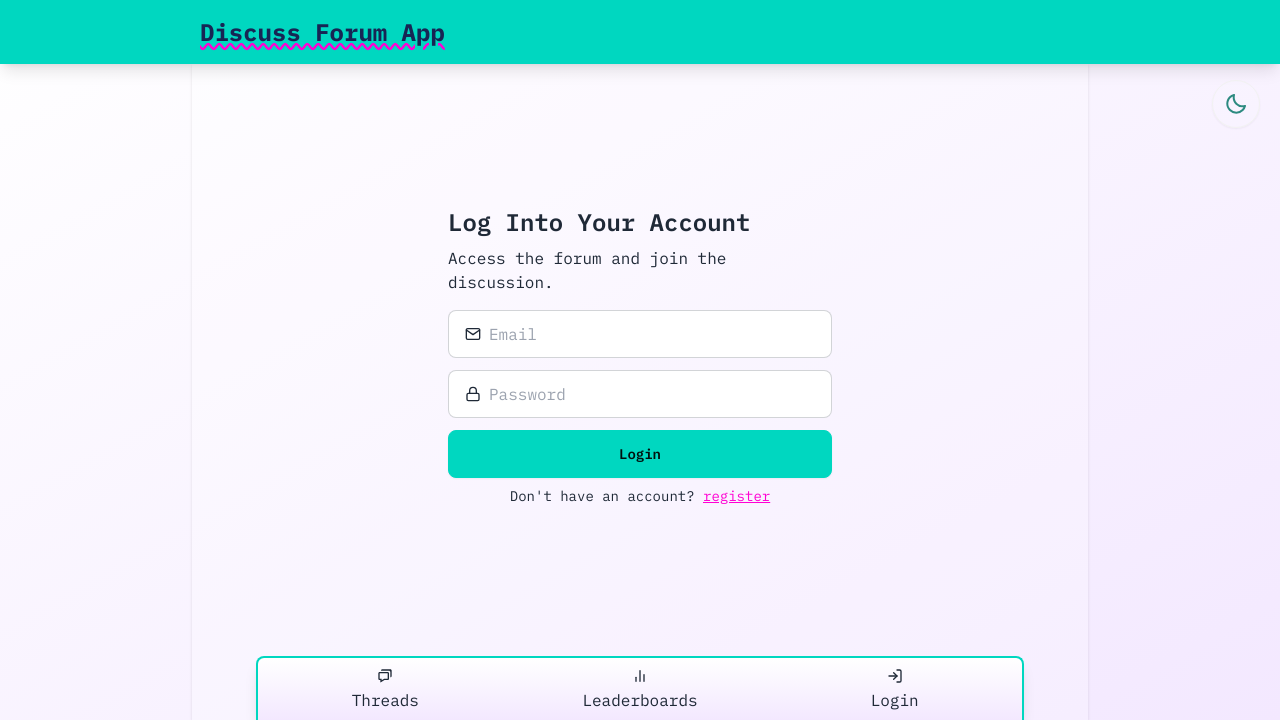
Test: login spec › should show error message when login failed
This screenshot has width=1280, height=720.
Type "testy@mail.com" into the field with placeholder "Email" at (652, 334), box [489,322,815,346]
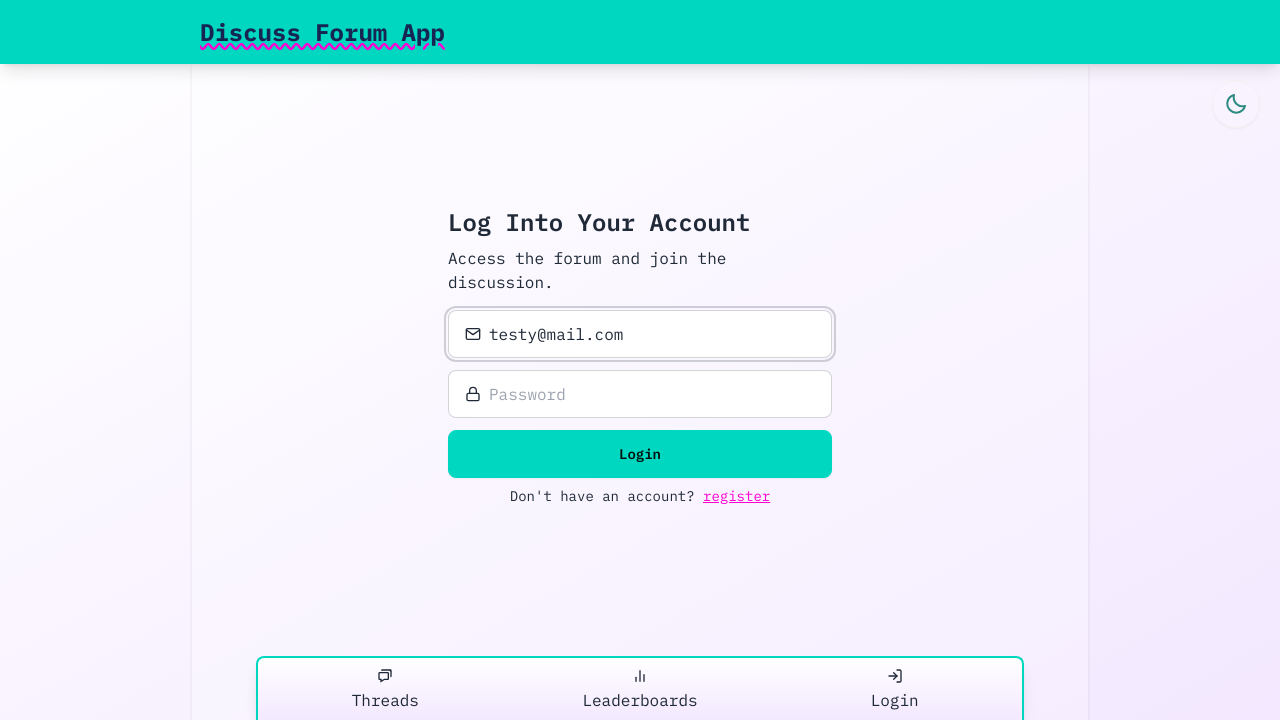
Type "password" into the password field with placeholder "Password" at (652, 394), box [489,382,815,406]
Then press Enter
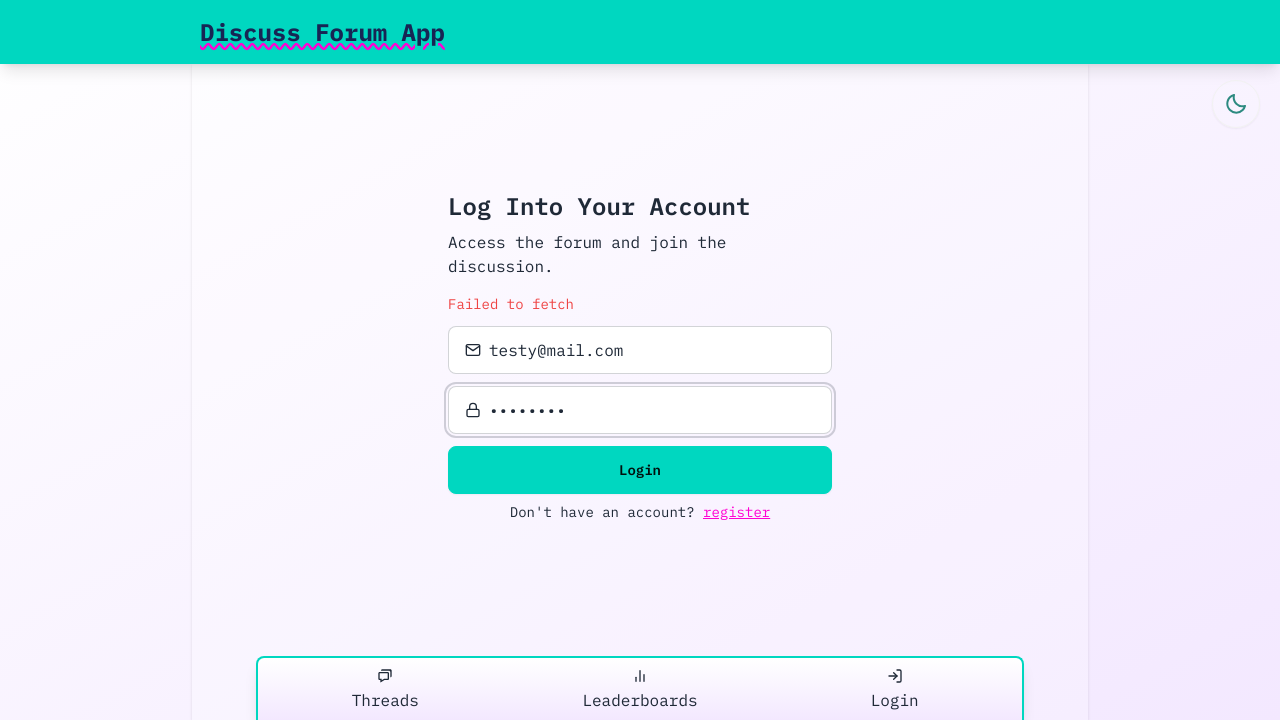
Result: the text "Failed to fetch" is shown at [448,295,574,313]
